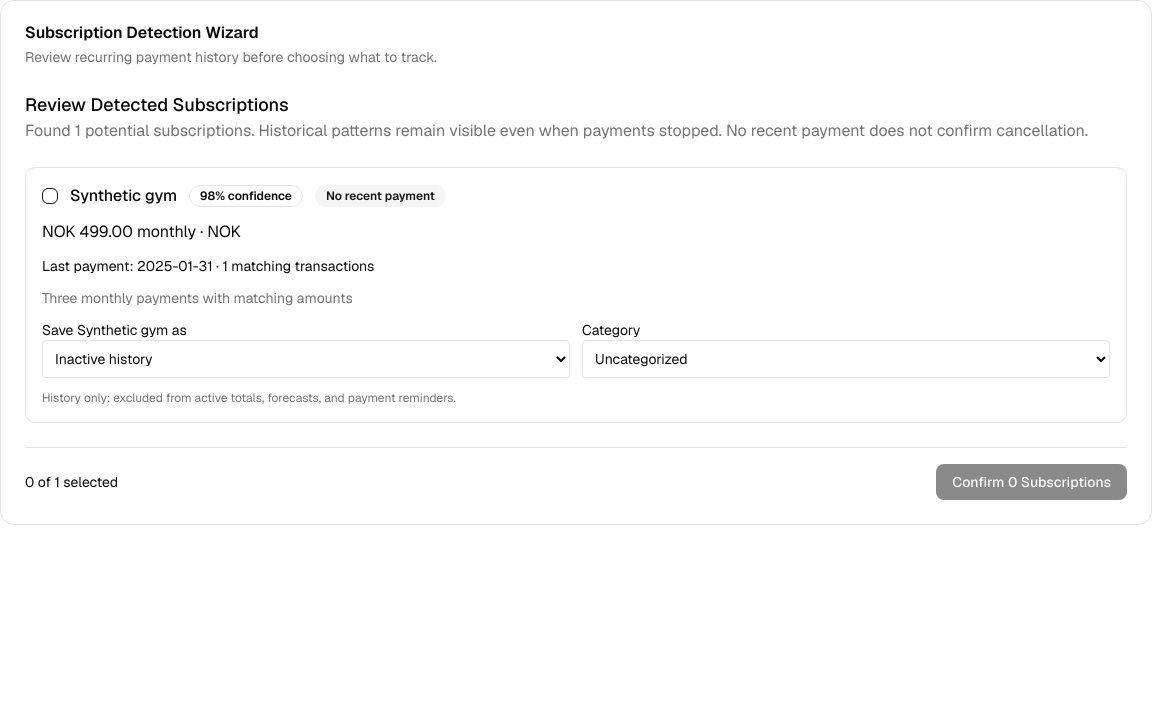
Test case: detected payment review › allows explicitly reactivating history, waits for persistence, and prevents duplicate submission
This screenshot has width=1152, height=720.
Step 1. Click the checkbox named "Select Synthetic gym" → (50, 196), box [42,188,58,204]
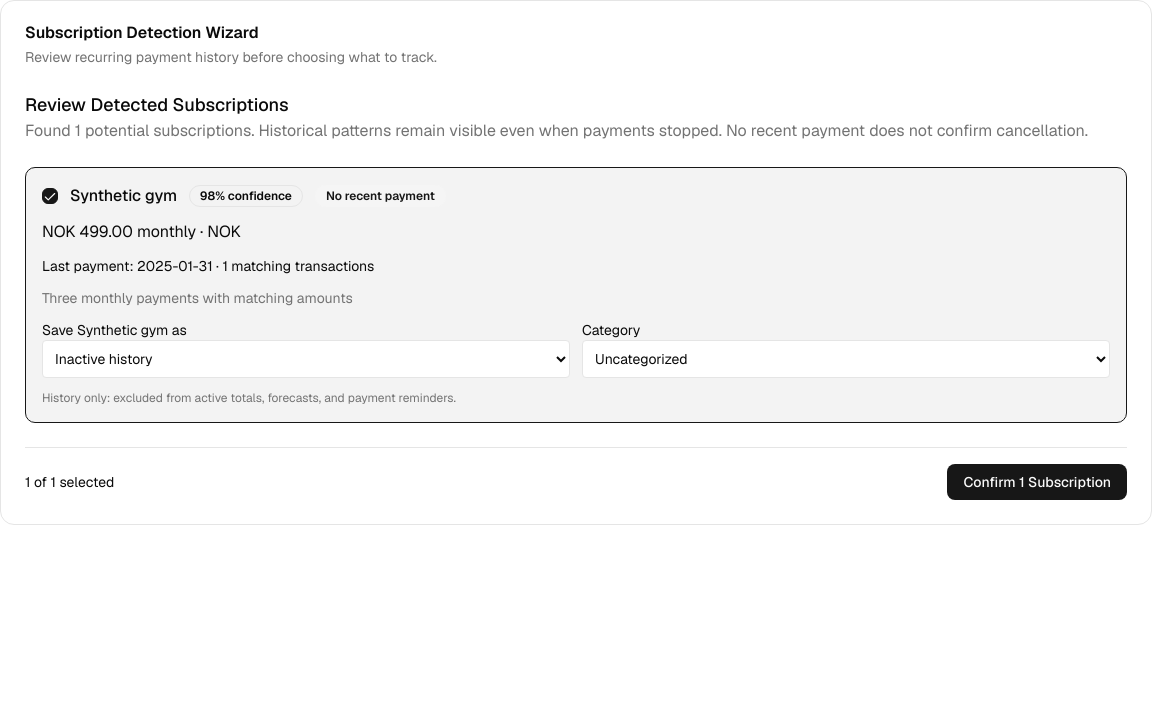
Step 2. Select "Active subscription" in the dropdown labelled "Save Synthetic gym as" → (306, 359), box [42,340,570,378]
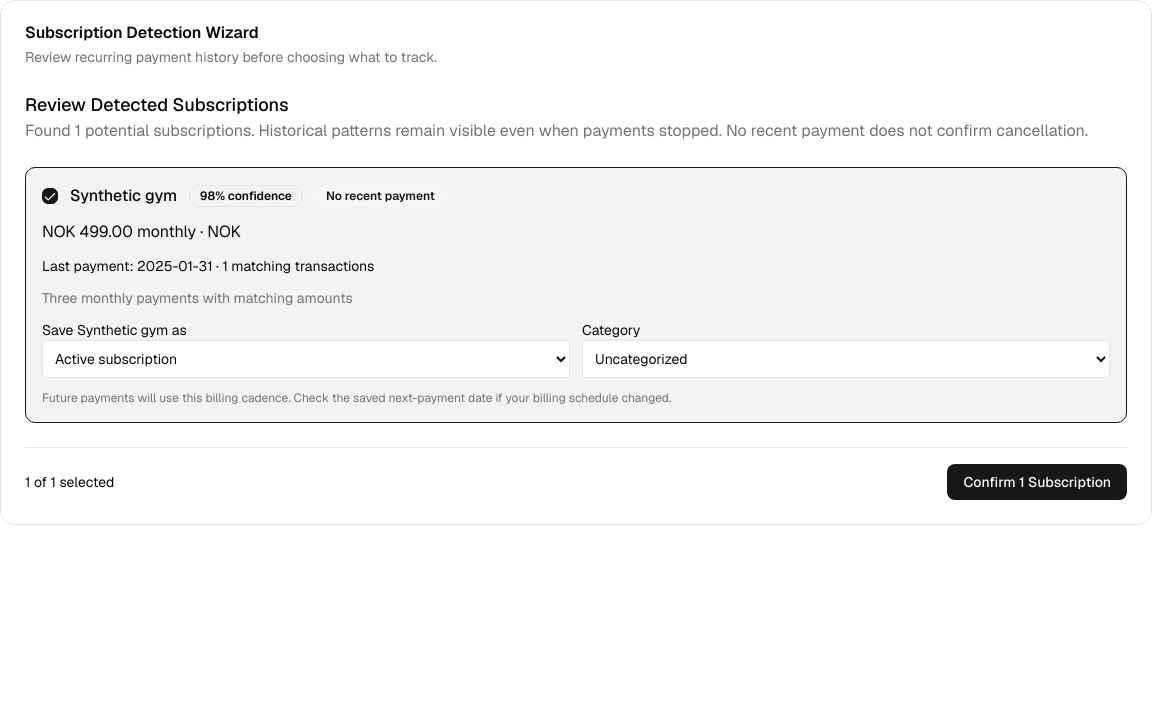
Step 3. Click the button "Confirm 1 Subscription" → (1037, 482), box [947,464,1127,500]
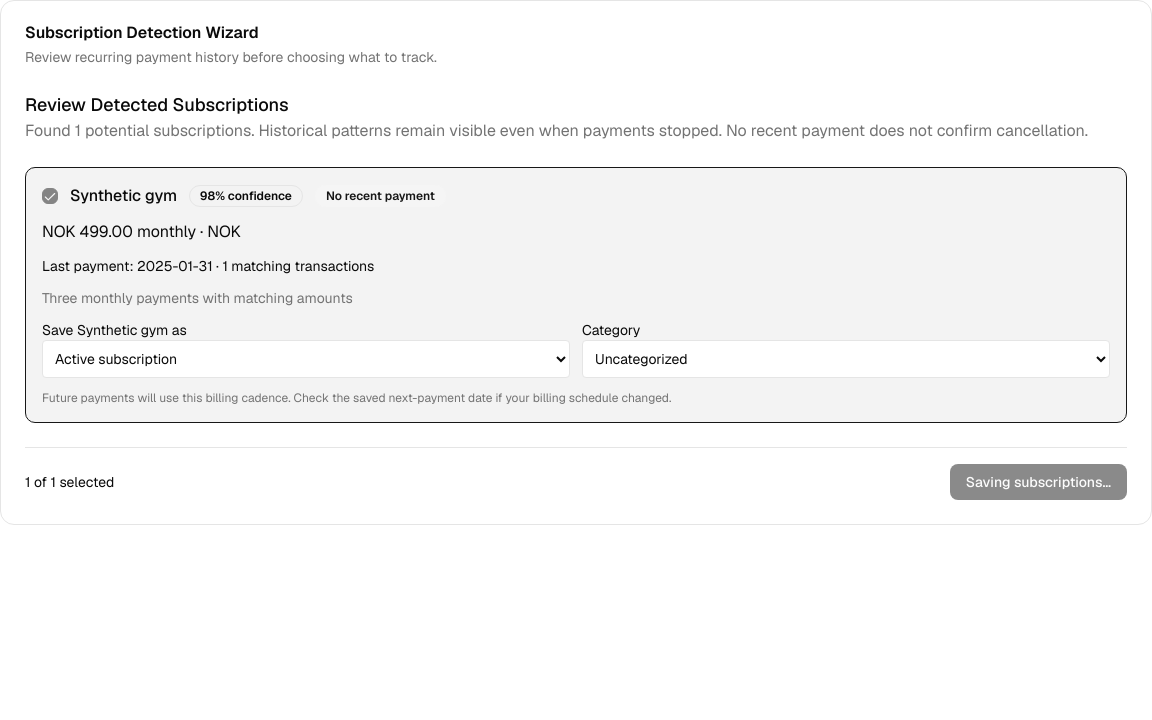
Check: the text "Detection Complete!" is not shown
Check: the button "Saving subscriptions…" is disabled
Step 4. Click the button "Saving subscriptions…" → (1038, 482), box [950,464,1127,500]
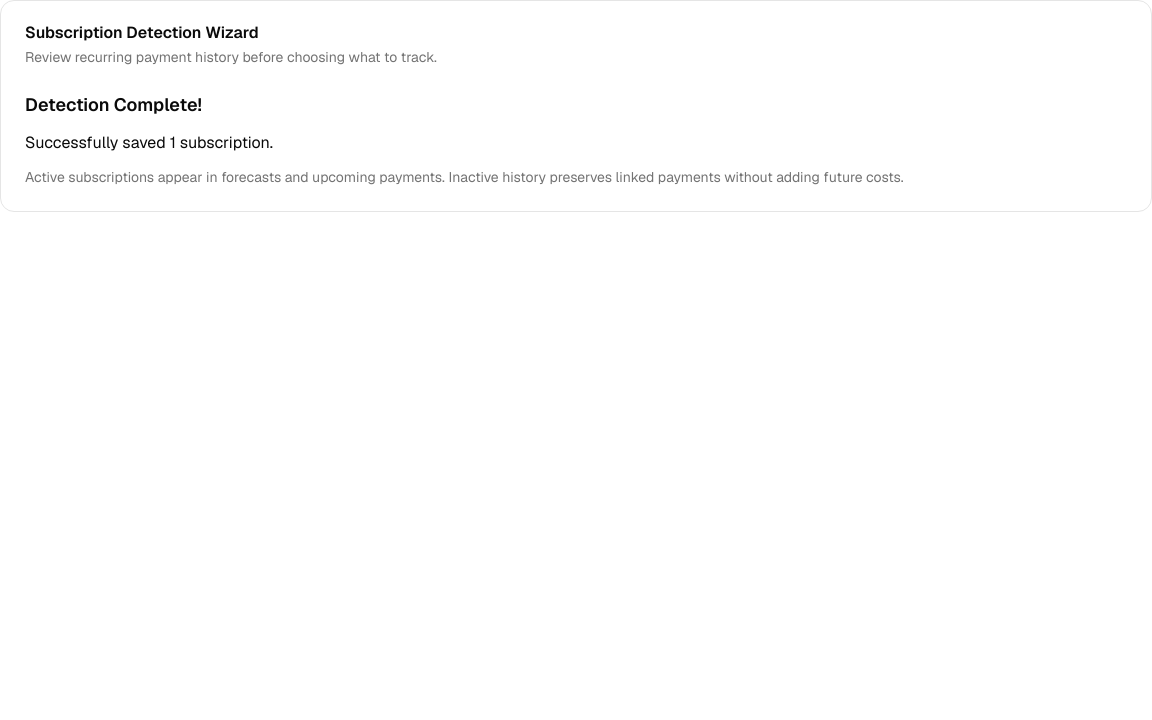
Check: the heading "Detection Complete!" is shown, box [25,93,202,116]
